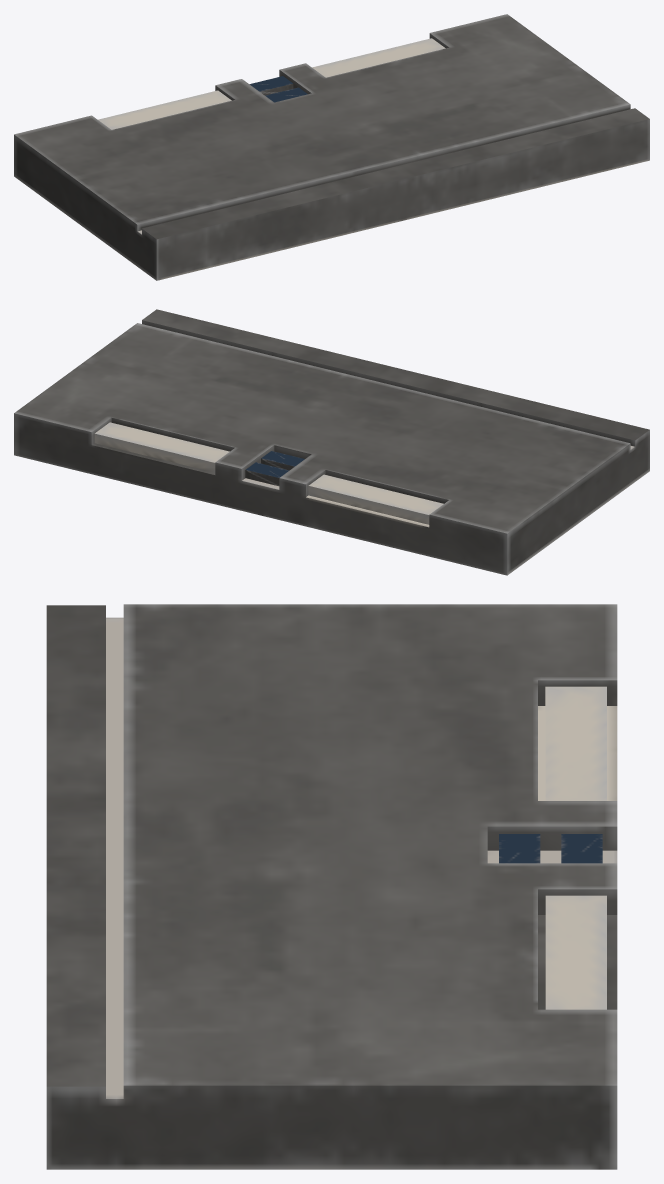
File: FUT0510042.fbx
3 renders of one model, top to bottom at view 1: azimuth 30°, elevation 25°; view 2: azimuth 150°, elevation 25°; view 3: azimuth 270°, elevation 25°, orthographic. The views are drawn at different scales.
Parts seen in each view (by area): view 1: smFUT0510042; view 2: smFUT0510042; view 3: smFUT0510042.
Boxes of the visible parts, <box> form: smFUT0510042: <box>14,14,649,280</box>; smFUT0510042: <box>14,309,649,575</box>; smFUT0510042: <box>46,604,617,1169</box>.
Bounding box in the file's own units: 168 × 13.68 × 84.17.
Materials: 1 (1 with a texture image).
